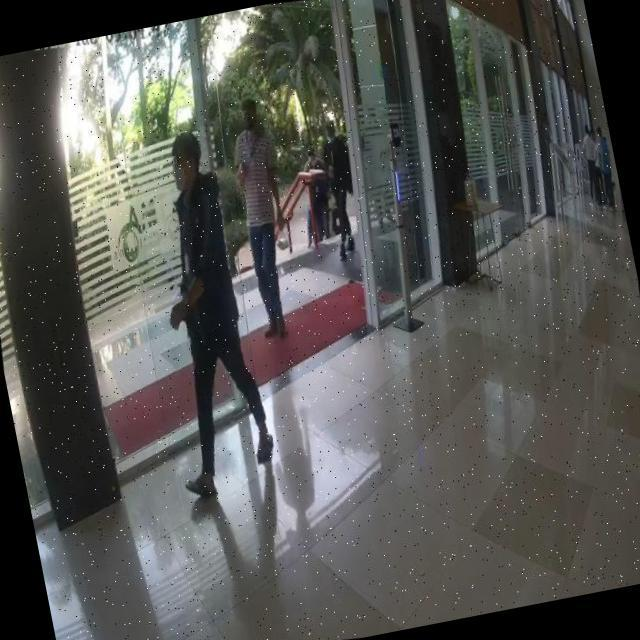person: (126, 120, 306, 507), (210, 90, 316, 346), (306, 116, 372, 262)
